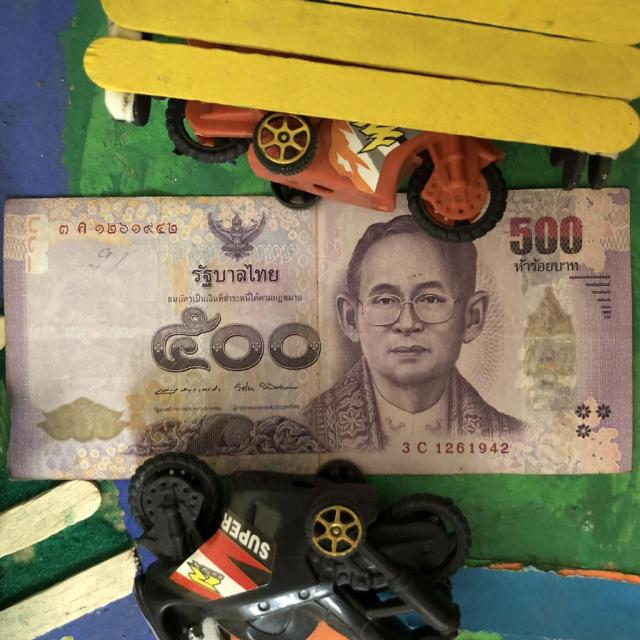THAI500: (2, 189, 633, 483)
